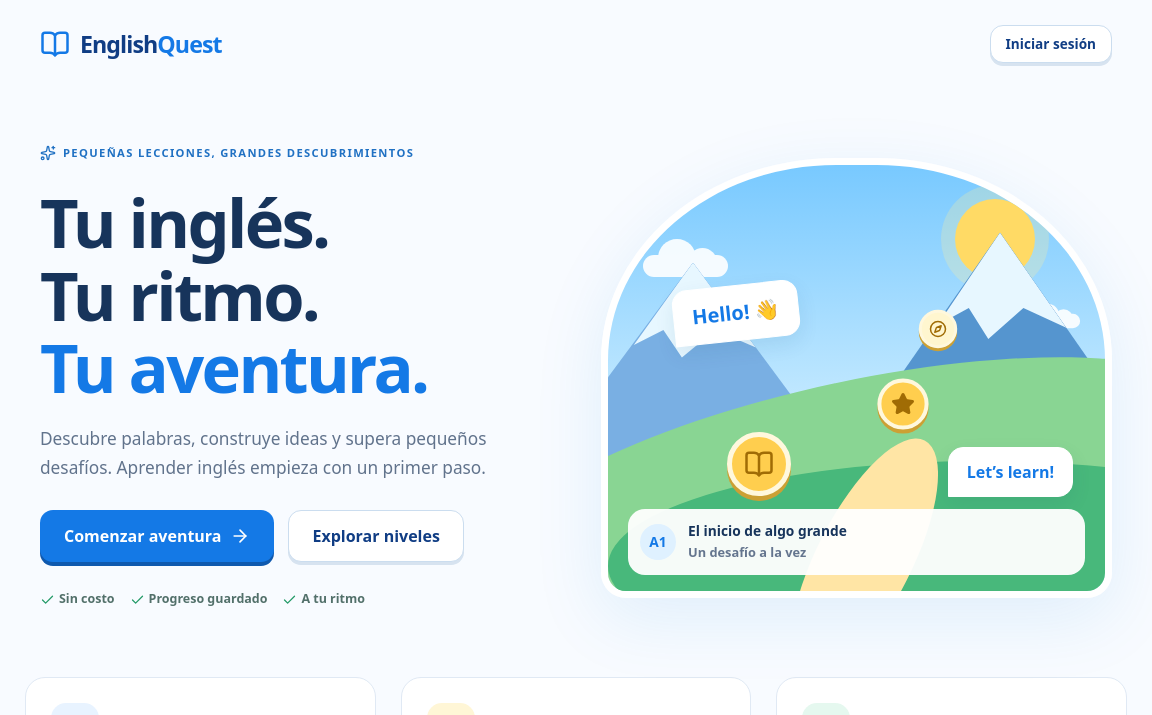
it: Navigation and availability › has a real registration link and an honest scope notice
The width and height of the screenshot is (1152, 715).
Check: the heading "Tu inglés.Tu ritmo.Tu aventura." is shown, box left=40, top=177, right=428, bottom=413
What coordinates should you click on to do the following:
click the link "Comenzar aventura"
I would click on:
 (157, 536)
Its box is left=40, top=510, right=274, bottom=562.
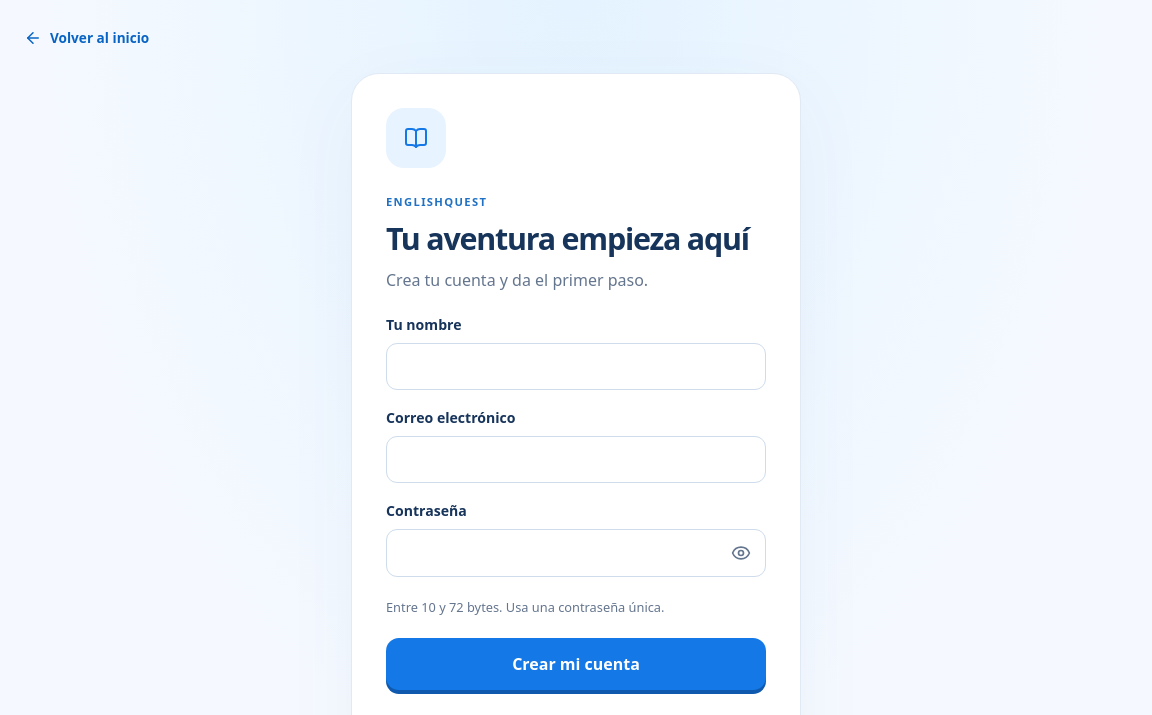
Check: the heading "Tu aventura empieza aquí" is shown, box left=386, top=221, right=766, bottom=258
